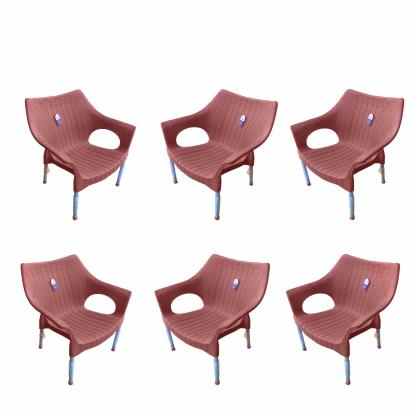chair: (20, 70, 144, 216)
